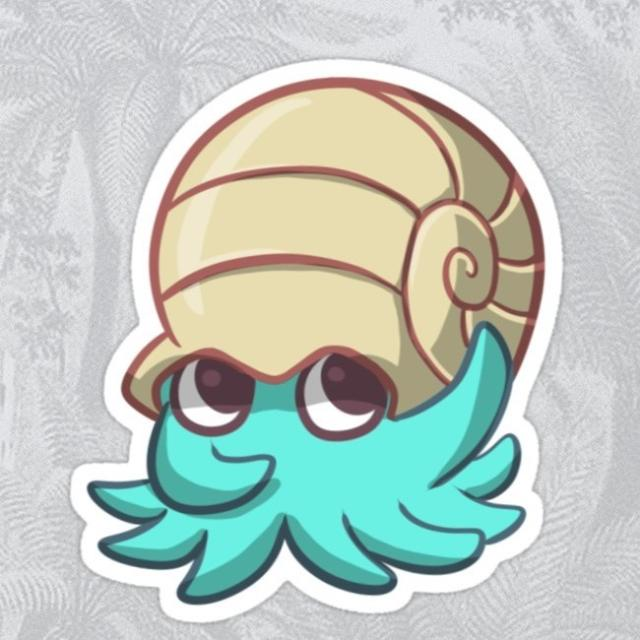Omanyte: (124, 89, 528, 533)
